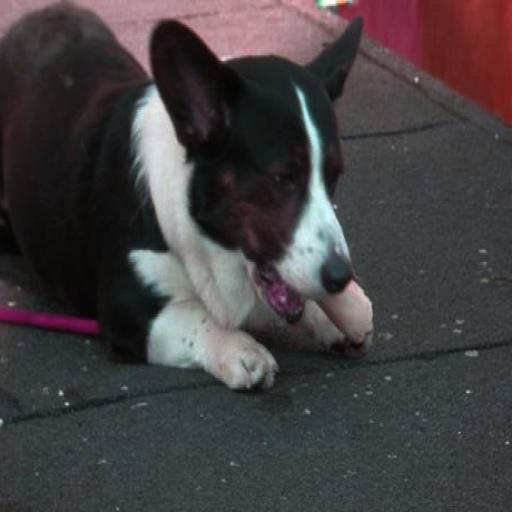dog_face: (152, 16, 353, 313)
